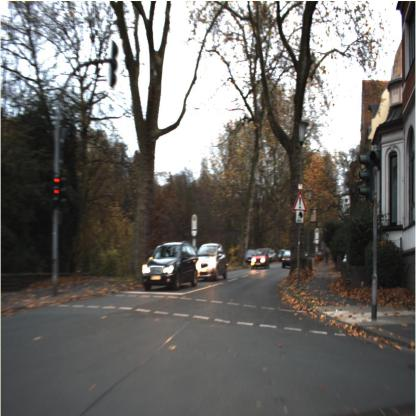danger: (289, 185, 308, 219)
